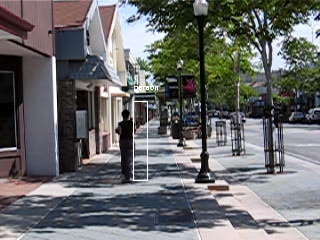person: (118, 110, 141, 182), (117, 110, 140, 182), (119, 110, 142, 182), (118, 109, 141, 181), (118, 111, 141, 183)
target_negative: (48, 111, 219, 203), (213, 56, 283, 225), (31, 135, 181, 213), (231, 93, 269, 205), (241, 173, 283, 213), (319, 233, 320, 236)
